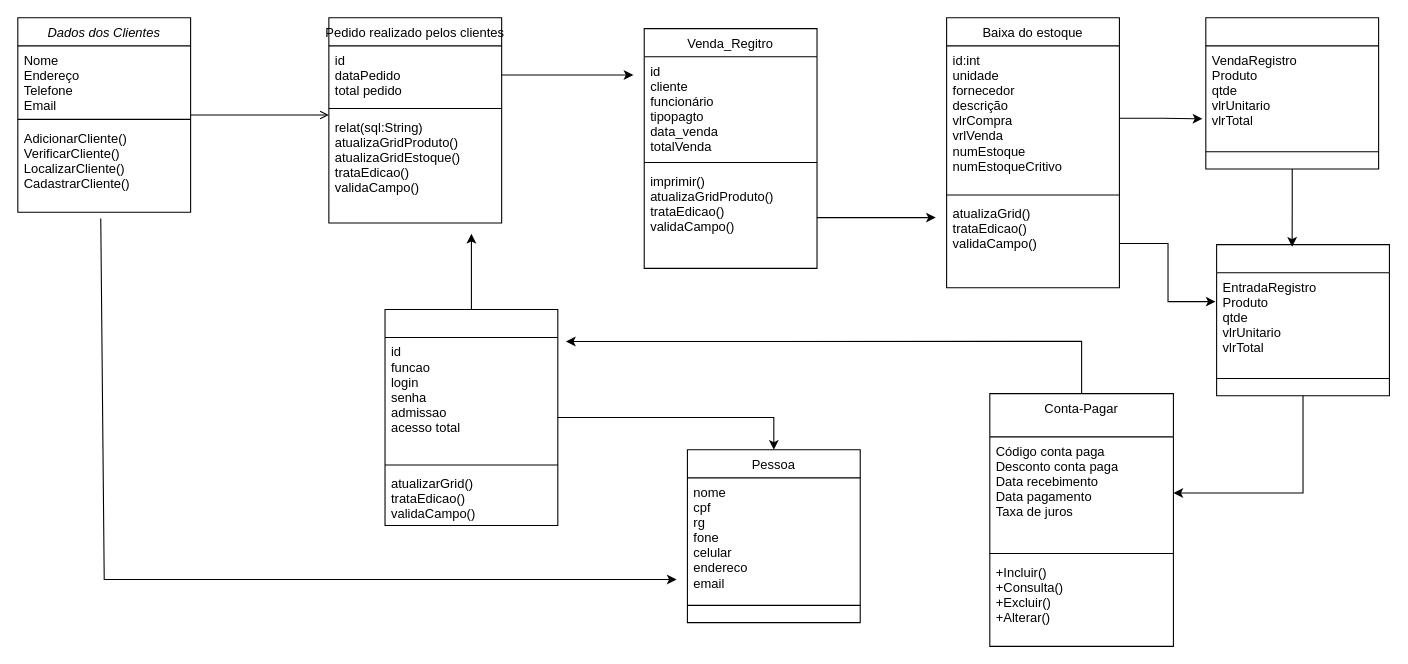
Image size: 1408x664. Some labels were removed from this diagram. Each missing label, with the box of its shape:
Funcionario: (384, 308, 558, 525)
Relatório de estoque Entradaa: (1216, 244, 1389, 396)
Relatório de estoque Venda: (1205, 17, 1379, 169)
